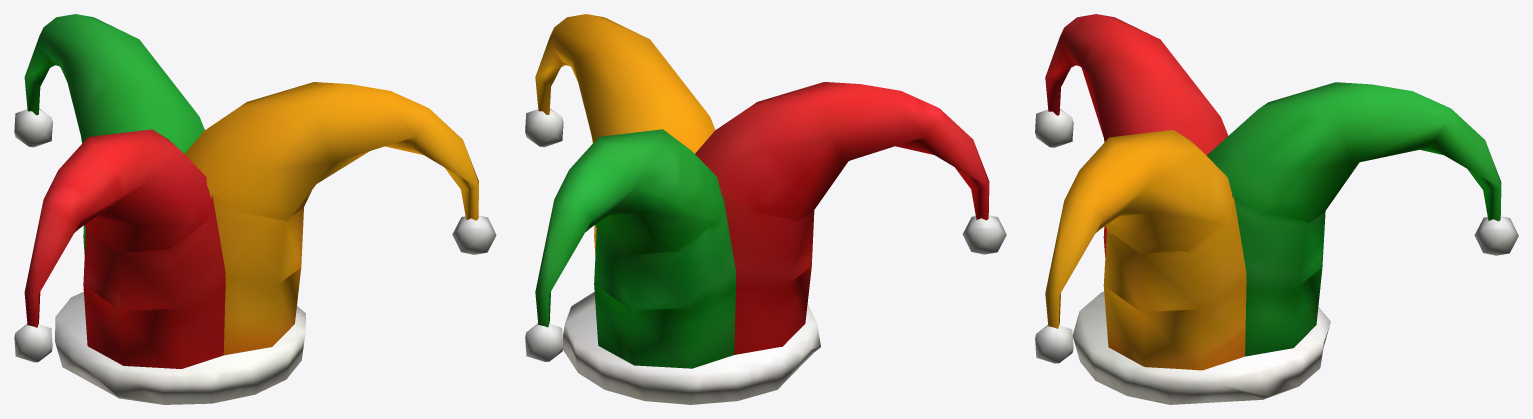
Rendered from Jester_Hat.glb.
3 renders of one model, left to right at view 1: azimuth 30°, elevation 25°; view 2: azimuth 150°, elevation 25°; view 3: azimuth 270°, elevation 25°, orthographic.
Visible parts, largest first — view 1: Jester_Hat; view 2: Jester_Hat; view 3: Jester_Hat.
Boxes of the visible parts, bbox=[...] form: Jester_Hat: bbox=[14, 14, 496, 404]; Jester_Hat: bbox=[525, 14, 1006, 404]; Jester_Hat: bbox=[1035, 14, 1518, 404].
Bounding box in the file's own units: 0.9586 × 0.5207 × 0.8444.
1 material, 1 textured.
